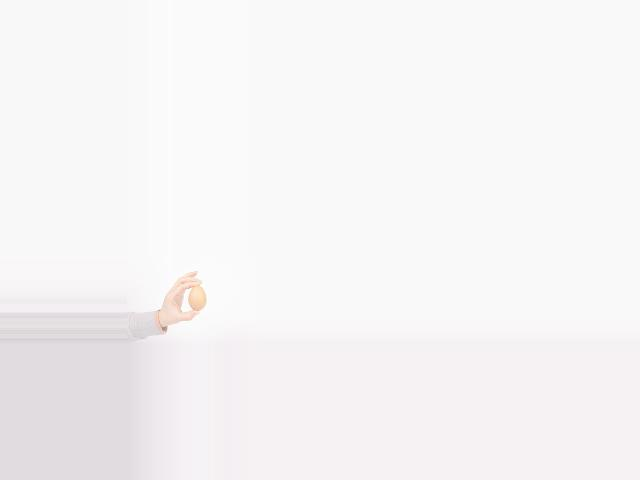egg: (189, 285, 206, 310)
